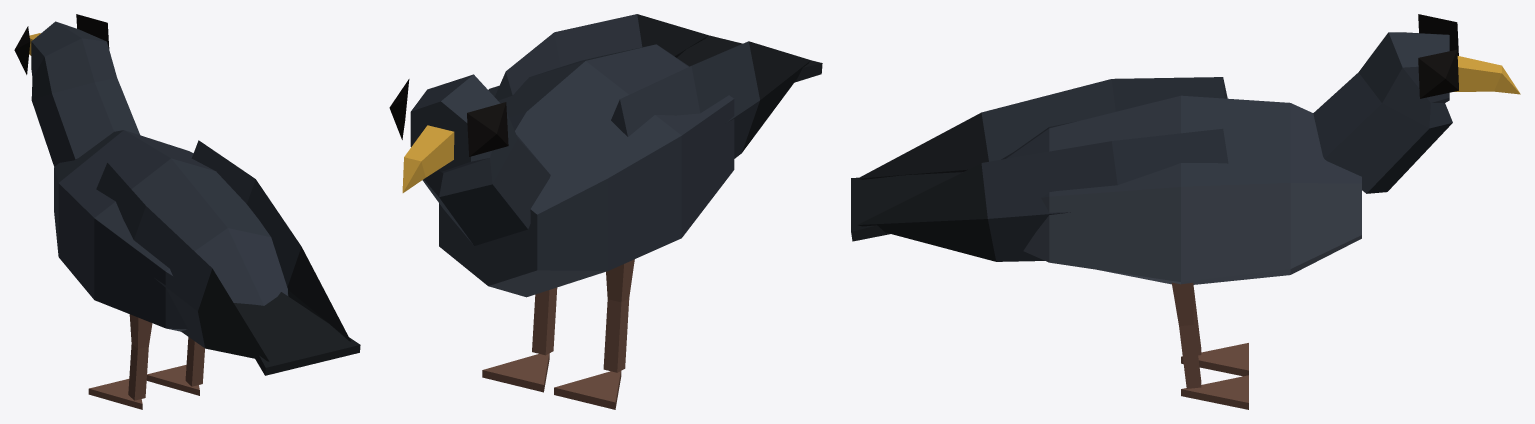
The model's file is bird_small_perched.glb.
3 views of the same model, side by side, from view 1: azimuth 30°, elevation 25°; view 2: azimuth 150°, elevation 25°; view 3: azimuth 270°, elevation 25° (orthographic). The views are drawn at different scales.
Parts seen in each view (by area): view 1: Body, Head, Wing_L, Tail, Wing_R, Leg_L, Leg_R; view 2: Body, Head, Wing_L, Wing_R, Leg_L, Leg_R, Tail; view 3: Body, Wing_R, Head, Wing_L, Leg_R, Tail, Leg_L.
Part boxes in pixels (x1=…): Body: x1=54, y1=130, x2=287, y2=331; Head: x1=14, y1=14, x2=139, y2=166; Wing_L: x1=96, y1=163, x2=269, y2=361; Tail: x1=234, y1=292, x2=360, y2=375; Wing_R: x1=191, y1=140, x2=350, y2=341; Leg_L: x1=88, y1=314, x2=152, y2=409; Leg_R: x1=146, y1=337, x2=204, y2=395; Body: x1=439, y1=44, x2=734, y2=297; Head: x1=389, y1=74, x2=550, y2=245; Wing_L: x1=611, y1=41, x2=810, y2=158; Wing_R: x1=495, y1=14, x2=708, y2=100; Leg_L: x1=554, y1=259, x2=634, y2=409; Leg_R: x1=482, y1=287, x2=557, y2=392; Tail: x1=677, y1=35, x2=822, y2=82; Body: x1=1001, y1=95, x2=1361, y2=284; Wing_R: x1=858, y1=128, x2=1228, y2=261; Head: x1=1313, y1=14, x2=1520, y2=193; Wing_L: x1=857, y1=77, x2=1227, y2=179; Leg_R: x1=1171, y1=282, x2=1248, y2=409; Tail: x1=851, y1=172, x2=962, y2=241; Leg_L: x1=1181, y1=285, x2=1248, y2=376.
Size of the model in its own units: 0.0677 by 0.1259 by 0.2198.
